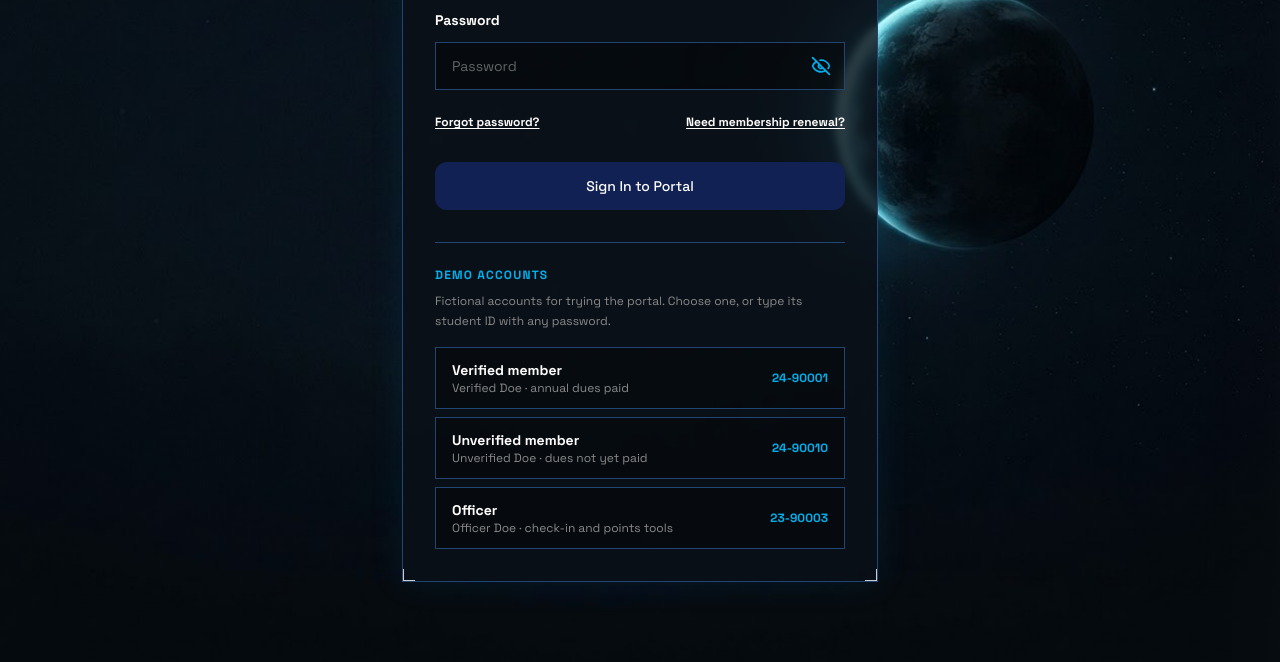
Test: officer points › matches partial input in any case and reports no matches
This screenshot has width=1280, height=662.
(page scrolled)
Click the button "Officer Officer Doe · check-in and points tools 23-90003" at (640, 518), box [435,487,845,549]
(page scrolled)
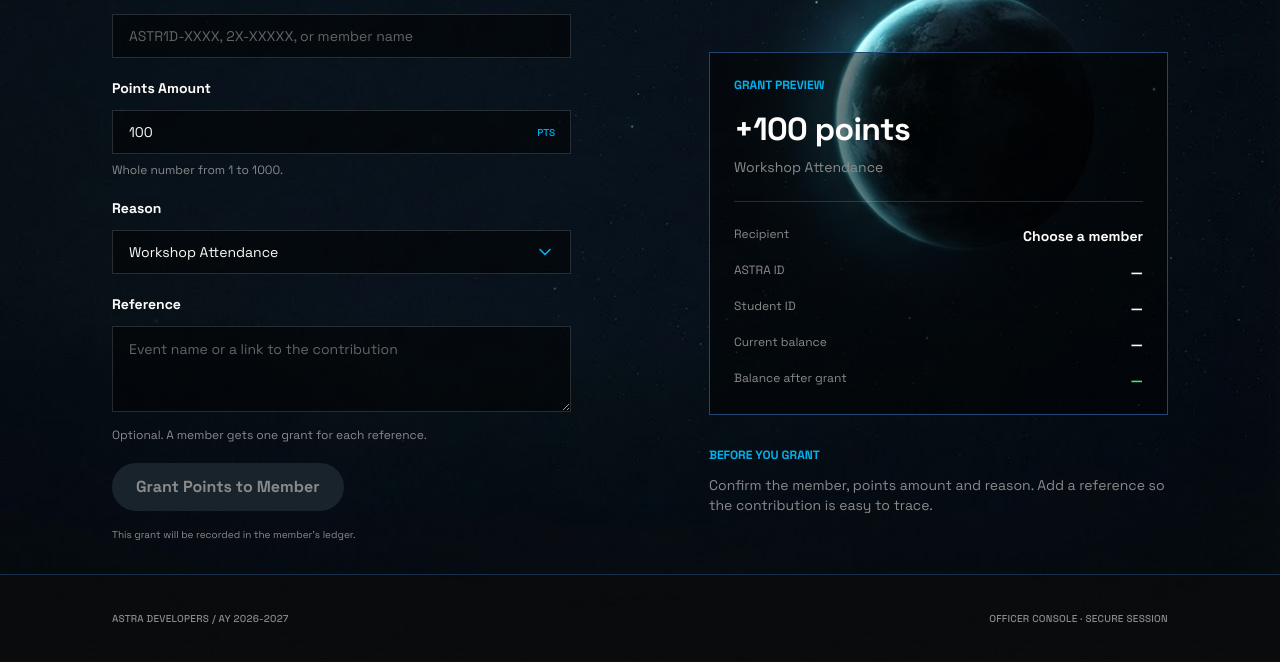
Type "  vErIf " into the dropdown labelled "Search by ASTRA ID, student ID, or name" at (342, 36), box [112,14,571,58]
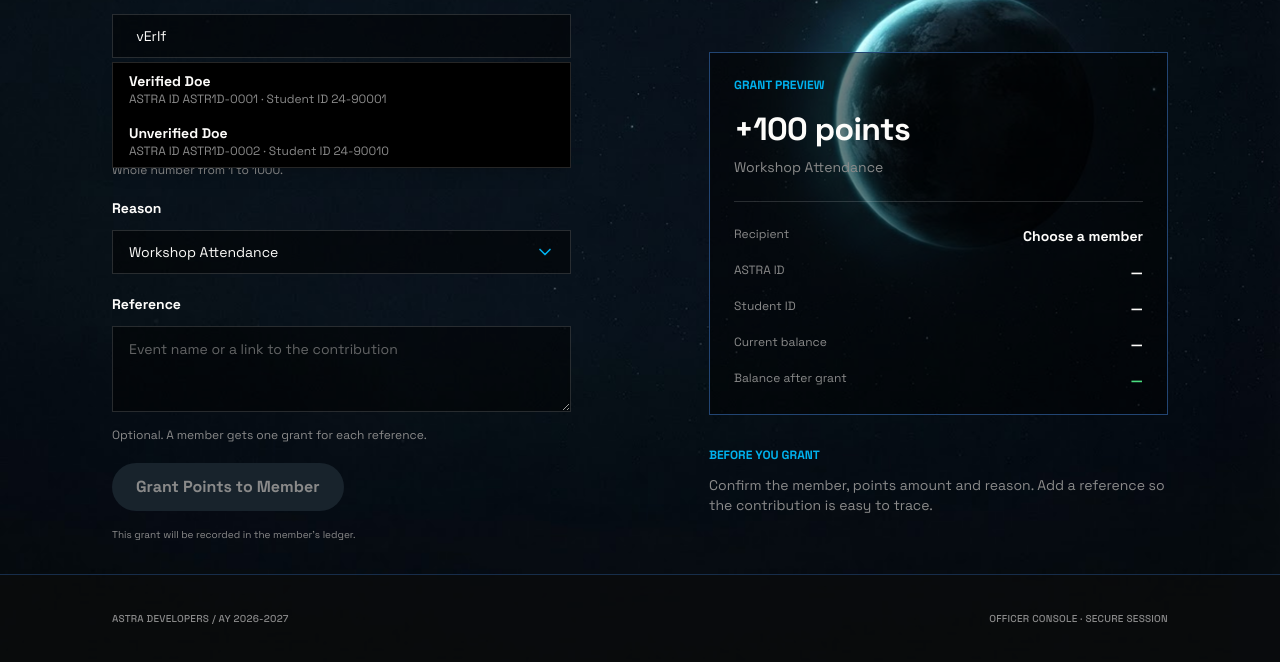
Replace the text in the dropdown labelled "Search by ASTRA ID, student ID, or name" with "zzz" at (342, 36), box [112,14,571,58]
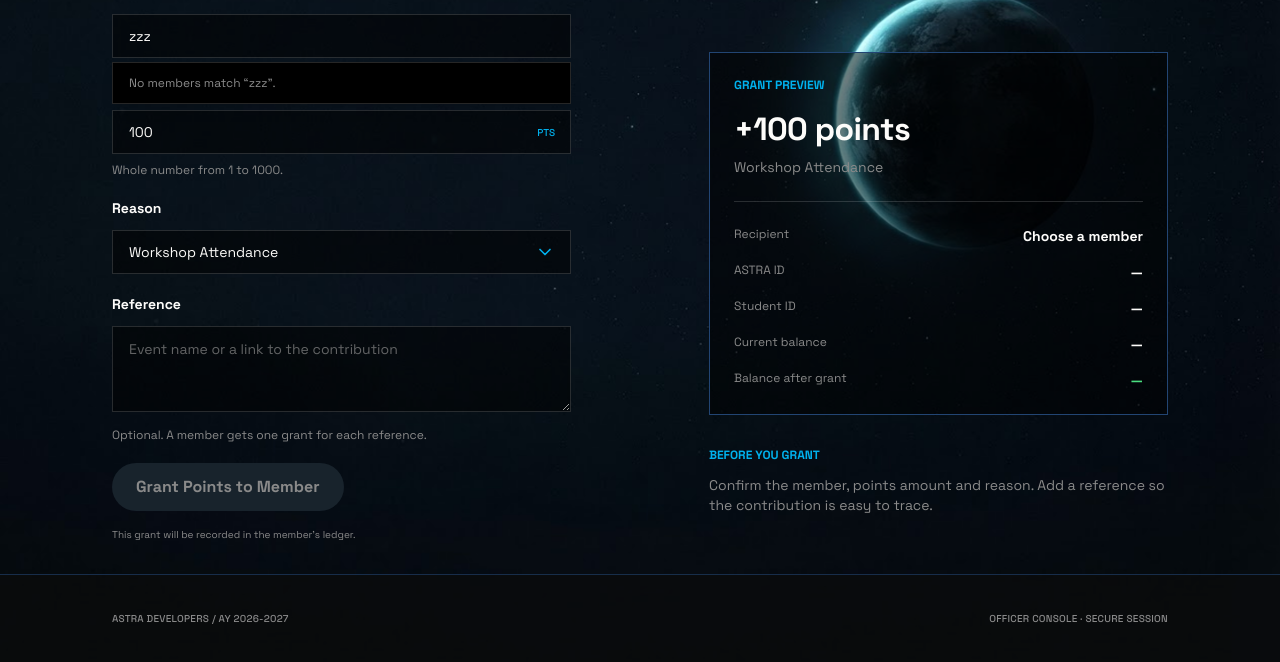
Result: the text "No members match “zzz”." is shown at [129,75,276,91]
Clear the dropdown labelled "Search by ASTRA ID, student ID, or name" at (342, 36), box [112,14,571,58]
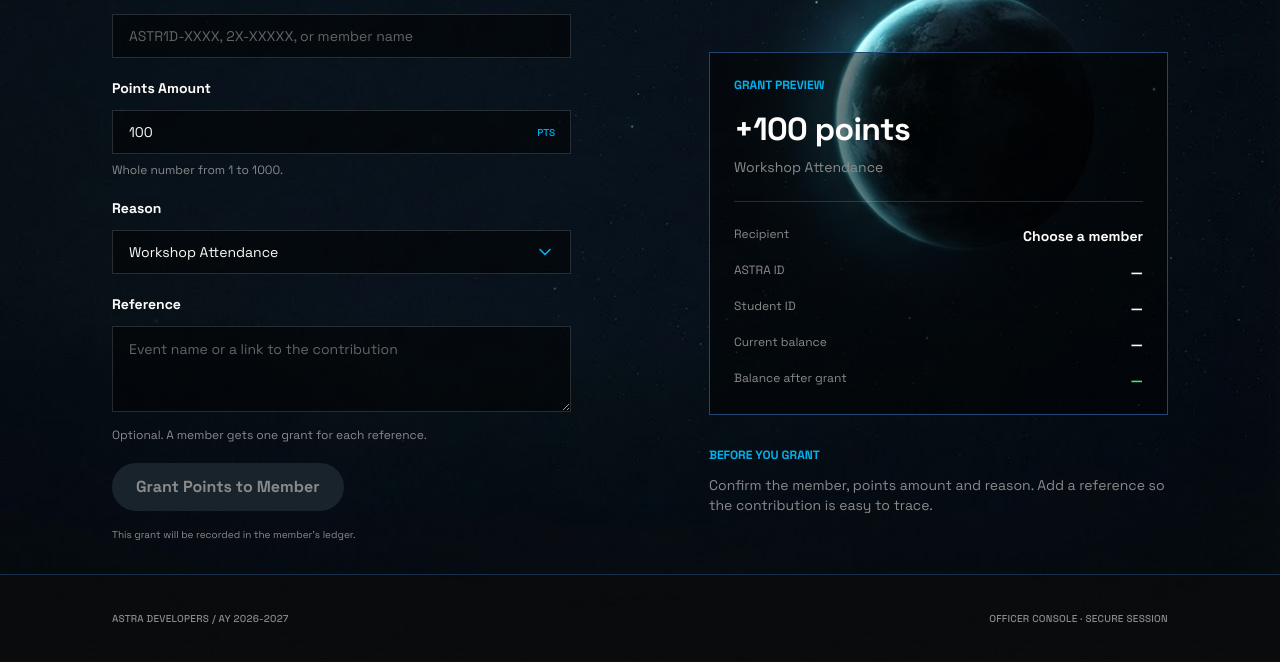
Result: the text "No members match" is gone
Result: the dropdown labelled "Search by ASTRA ID, student ID, or name" is collapsed at [112,14,571,58]
